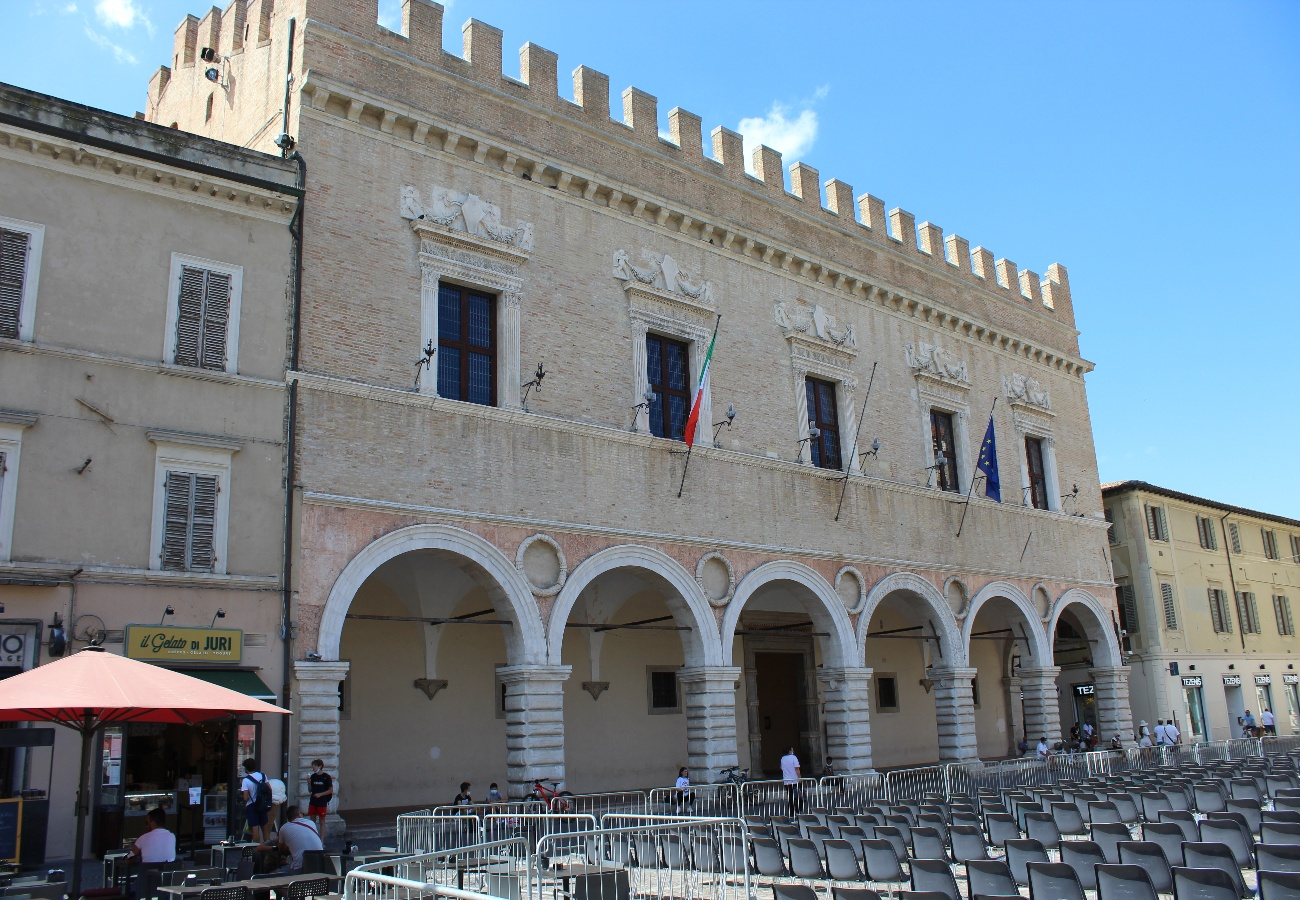Palazzo Ducale: (278, 1, 1123, 805)
